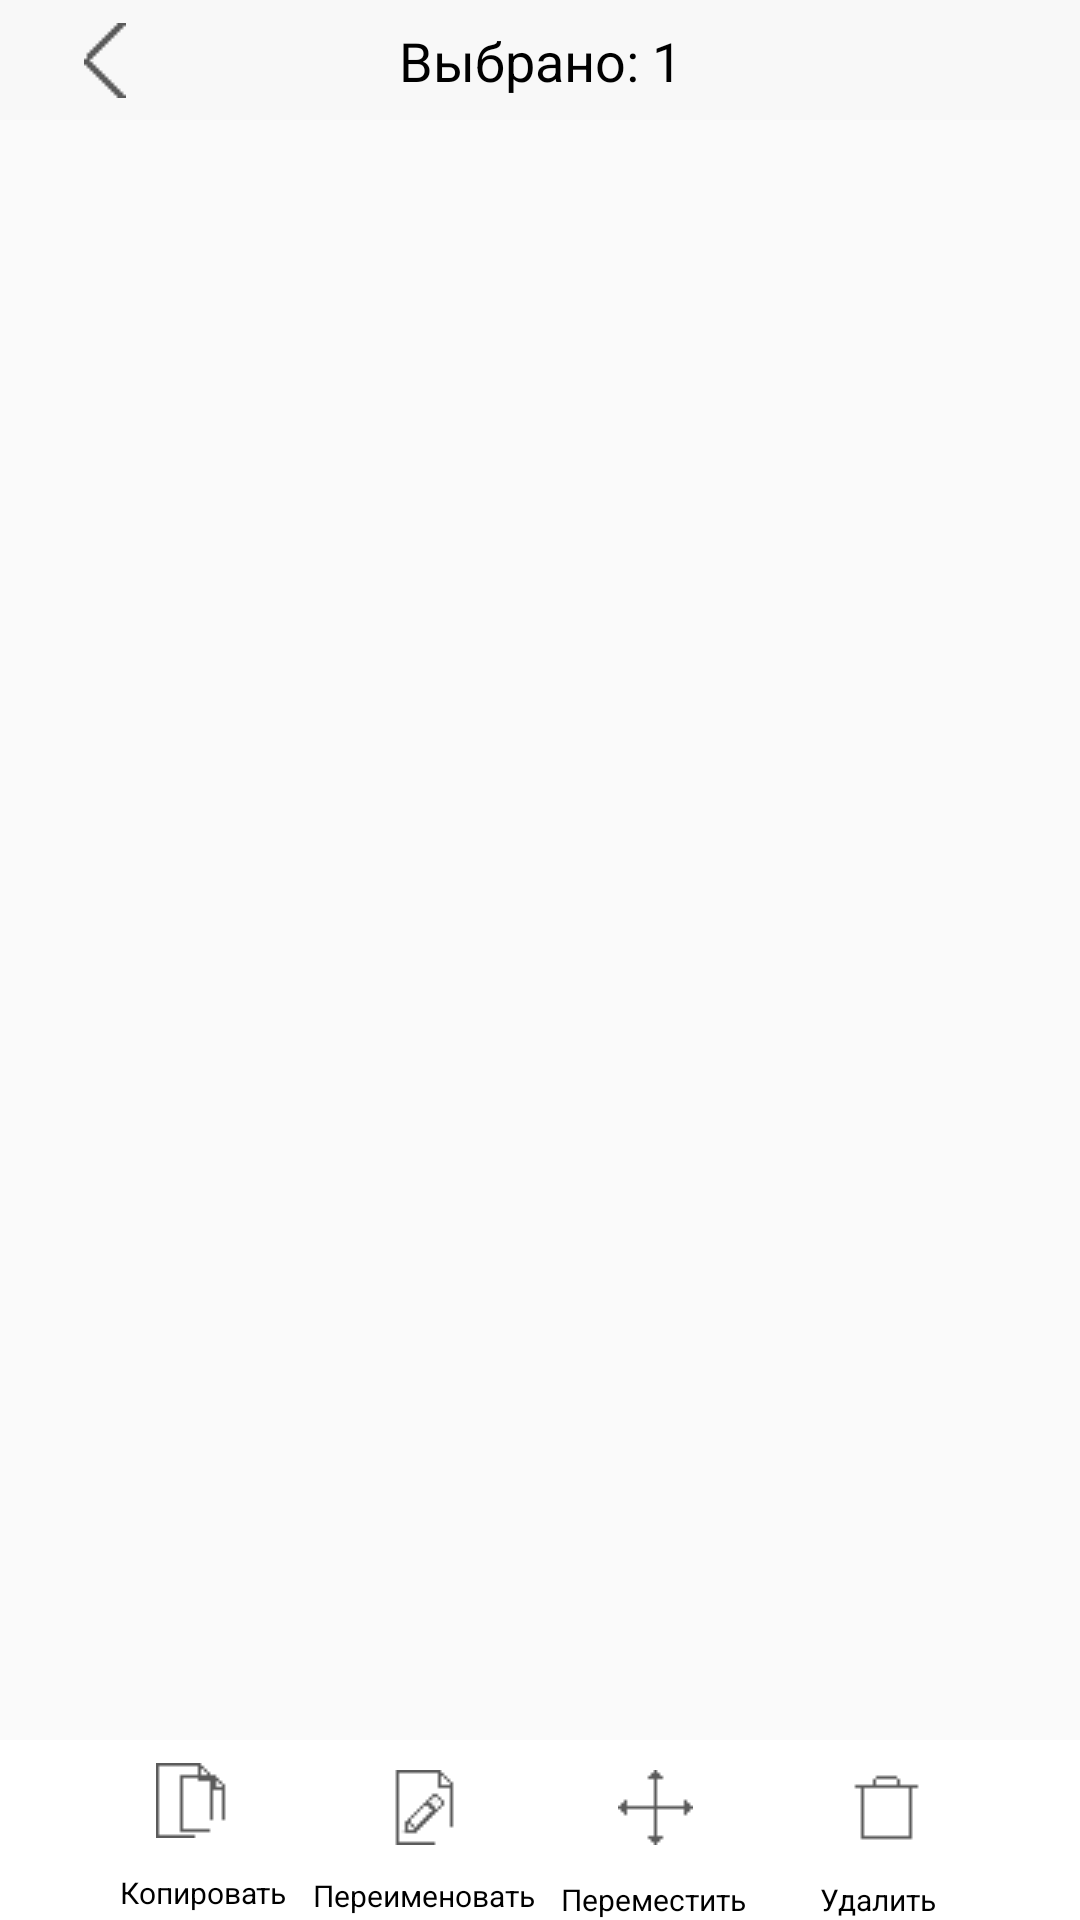

Icon click points for this 1080w x 1920h phone screenshot, format [x,y]:
del: [886,1807]
file: [191,1800]
left str: [105,60]
mest: [655,1807]
